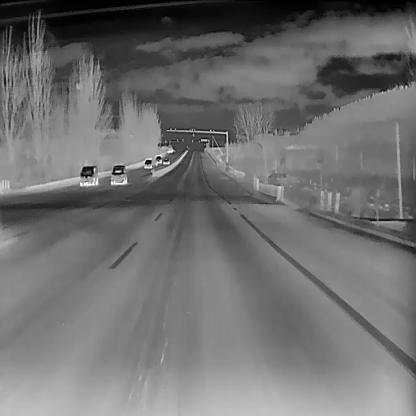car: (78, 164, 98, 186), (110, 162, 127, 184), (142, 157, 152, 168), (154, 154, 162, 164), (162, 156, 171, 164)
truck: (166, 144, 172, 153)
